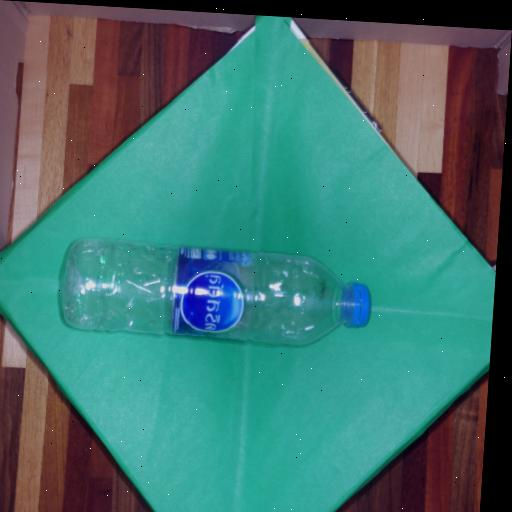bottle: (62, 239, 369, 344)
